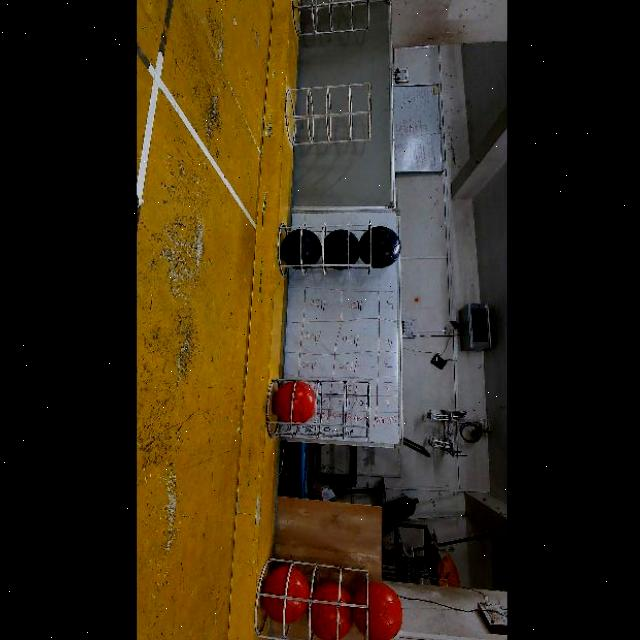P: (358, 225, 399, 268), (279, 229, 320, 270), (322, 229, 361, 269)
R: (352, 583, 402, 640), (259, 568, 306, 626), (309, 584, 354, 640), (272, 381, 314, 423)
S: (250, 568, 368, 640), (260, 378, 372, 444), (269, 216, 377, 274), (285, 82, 373, 146), (292, 0, 371, 30)
